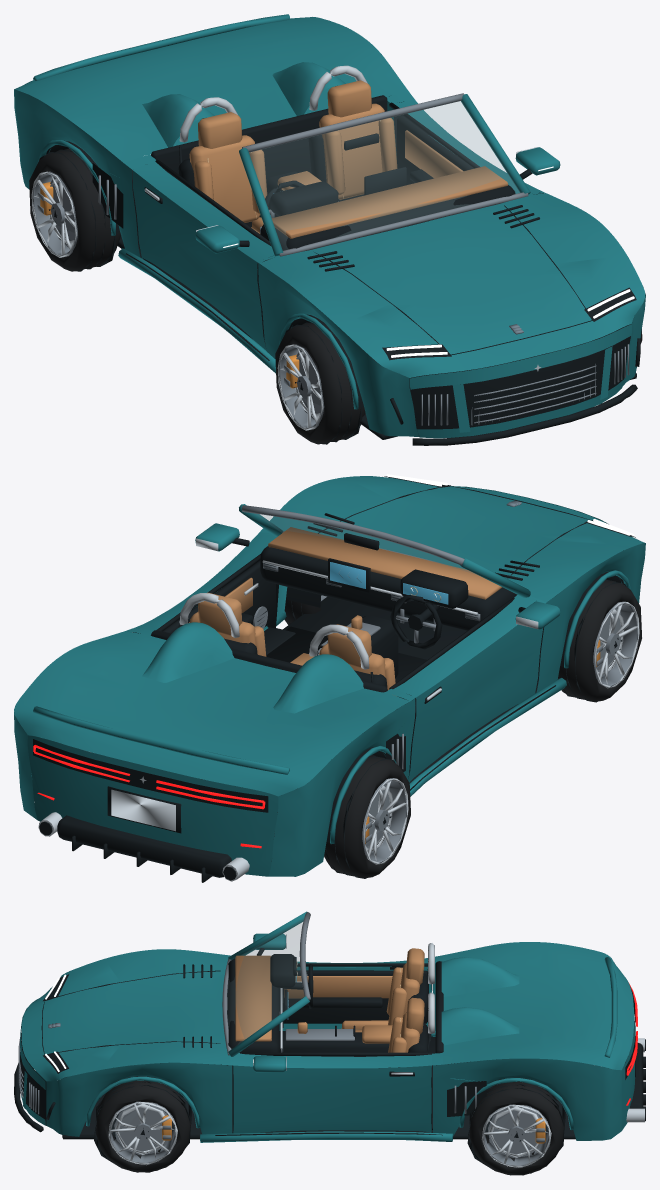
Rendered from AstraAurora-lod.glb.
3 renders of one model, top to bottom at view 1: azimuth 30°, elevation 25°; view 2: azimuth 150°, elevation 25°; view 3: azimuth 270°, elevation 25°, orthographic. The views are drawn at different scales.
Visible parts, largest first — view 1: body_group_upper, body_group_body, body_group_dark, body_group_glass, body_group_leather, driver_door_body, body_group_metal, wheel_rl_spin_rubber, wheel_fl_spin_rubber, driver_door_upper, wheel_fl_spin_metal, wheel_rl_spin_metal (+4 smaller); view 2: body_group_upper, body_group_body, body_group_dark, driver_door_body, body_group_leather, body_group_chrome, wheel_rl_spin_rubber, wheel_fl_spin_rubber, driver_door_upper, body_group_metal, wheel_fl_spin_metal, wheel_rl_spin_metal (+8 smaller); view 3: body_group_upper, body_group_body, body_group_dark, body_group_leather, body_group_glass, wheel_rr_spin_rubber, wheel_fr_spin_rubber, driver_door_dark, body_group_metal, wheel_rr_spin_metal, wheel_fr_spin_metal, driver_door_leather (+6 smaller).
Part boxes in pixels (bbox=[...]): body_group_upper: bbox=[14, 17, 645, 377]; body_group_body: bbox=[14, 14, 645, 438]; body_group_dark: bbox=[46, 95, 640, 445]; body_group_glass: bbox=[249, 101, 520, 250]; body_group_leather: bbox=[189, 80, 508, 238]; driver_door_body: bbox=[132, 170, 266, 350]; body_group_metal: bbox=[98, 93, 629, 425]; wheel_rl_spin_rubber: bbox=[29, 148, 120, 271]; wheel_fl_spin_rubber: bbox=[275, 322, 365, 444]; driver_door_upper: bbox=[133, 161, 274, 262]; wheel_fl_spin_metal: bbox=[279, 344, 324, 428]; wheel_rl_spin_metal: bbox=[32, 171, 77, 255]; body_group_upper: bbox=[14, 476, 644, 796]; body_group_body: bbox=[14, 478, 645, 876]; body_group_dark: bbox=[33, 476, 635, 882]; driver_door_body: bbox=[408, 601, 560, 782]; body_group_leather: bbox=[188, 527, 502, 696]; body_group_chrome: bbox=[38, 538, 477, 881]; wheel_rl_spin_rubber: bbox=[324, 755, 410, 878]; wheel_fl_spin_rubber: bbox=[558, 581, 641, 701]; driver_door_upper: bbox=[393, 595, 538, 697]; body_group_metal: bbox=[242, 505, 480, 769]; wheel_fl_spin_metal: bbox=[593, 601, 638, 687]; wheel_rl_spin_metal: bbox=[362, 778, 407, 863]; body_group_upper: bbox=[21, 942, 633, 1081]; body_group_body: bbox=[20, 911, 635, 1142]; body_group_dark: bbox=[14, 954, 645, 1139]; body_group_leather: bbox=[235, 948, 424, 1052]; body_group_glass: bbox=[227, 919, 304, 1043]; wheel_rr_spin_rubber: bbox=[469, 1081, 564, 1175]; wheel_fr_spin_rubber: bbox=[95, 1080, 190, 1172]; driver_door_dark: bbox=[257, 948, 432, 1023]; body_group_metal: bbox=[18, 912, 476, 1114]; wheel_rr_spin_metal: bbox=[483, 1104, 549, 1166]; wheel_fr_spin_metal: bbox=[110, 1101, 176, 1163]; driver_door_leather: bbox=[284, 976, 392, 998].
Size of the model in its own units: 2.31 by 1.34 by 4.63.
